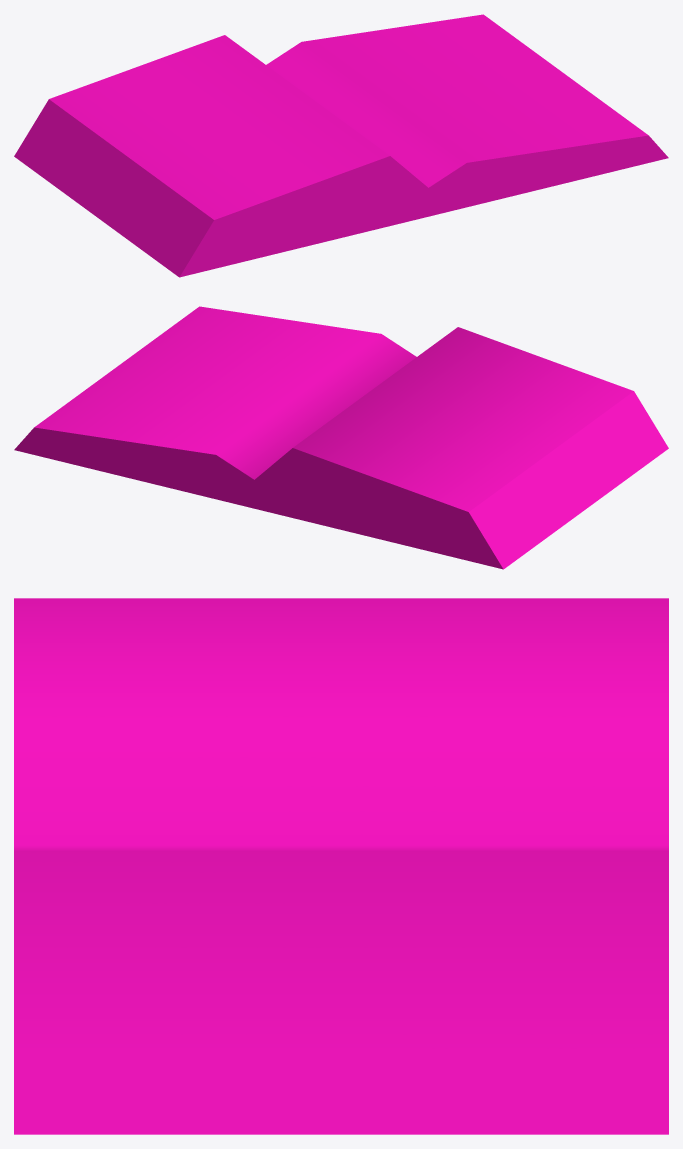
The model's file is study_book_open_1_meshCollider.fbx.
The picture shows the model from 3 angles, top to bottom: view 1: azimuth 30°, elevation 25°; view 2: azimuth 150°, elevation 25°; view 3: azimuth 270°, elevation 25°; orthographic projection. The views are drawn at different scales.
Parts seen in each view (by area): view 1: study_book_open_1_meshCollider; view 2: study_book_open_1_meshCollider; view 3: study_book_open_1_meshCollider.
Boxes of the visible parts, box(x1,y1,x2,y2) form: study_book_open_1_meshCollider: box(14, 14, 668, 277); study_book_open_1_meshCollider: box(14, 306, 668, 569); study_book_open_1_meshCollider: box(14, 598, 668, 1134).
Bounding box in the file's own units: 37.95 × 5.19 × 22.2.
